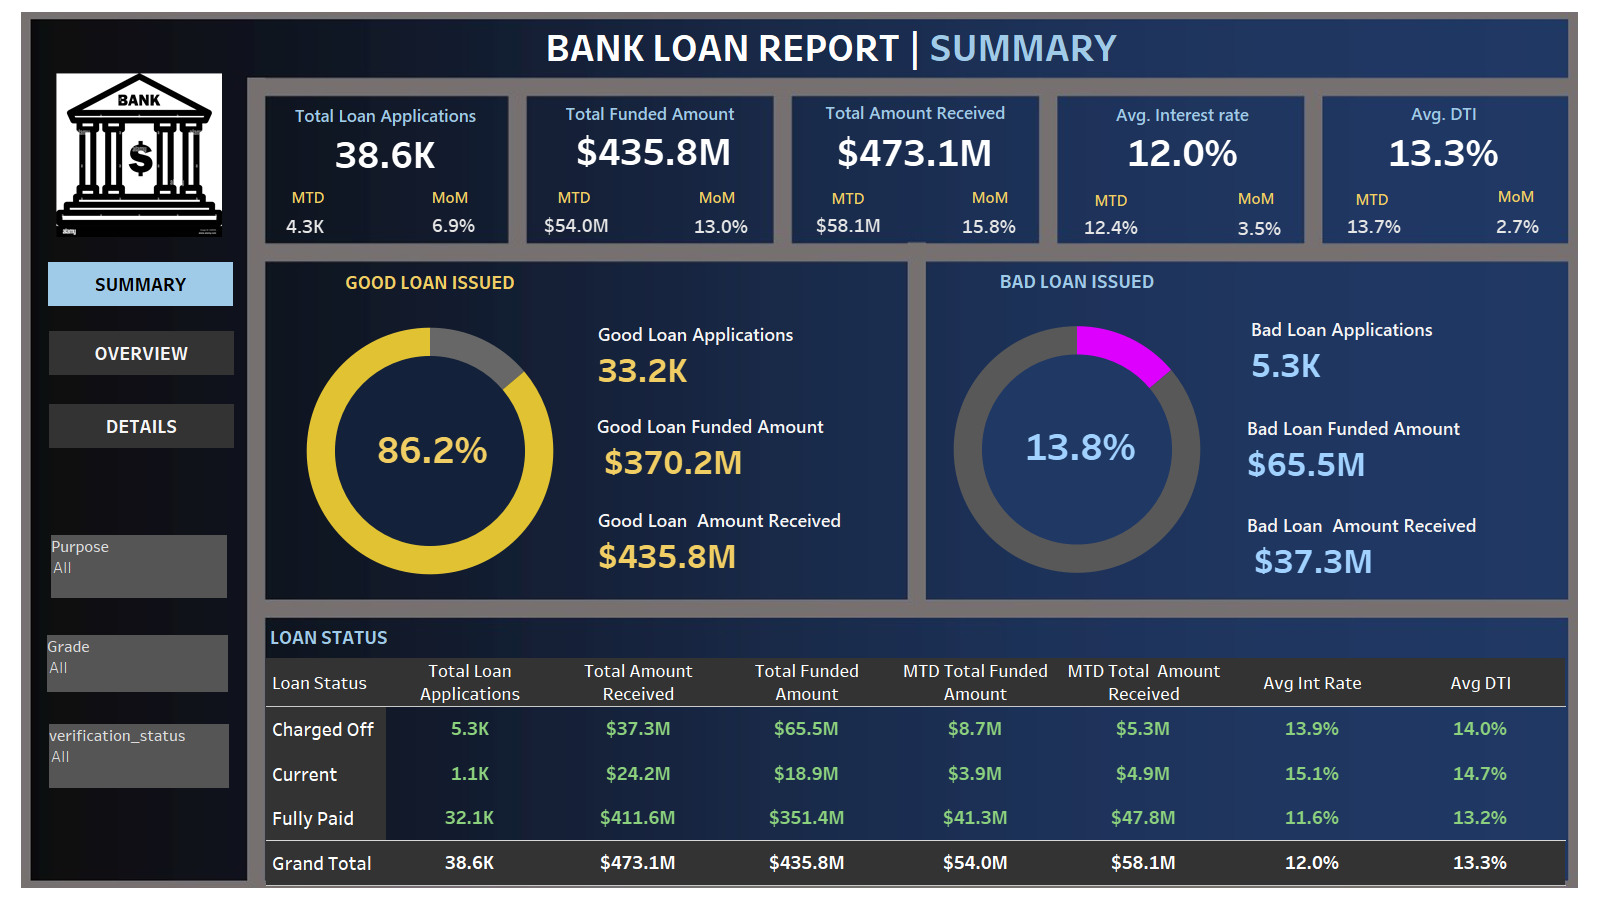

This screenshot's page, from the dashboard's own definition file:
{"tool":"tableau","page":{"name":"summary","canvas":[1600,900],"ordinal":2},"visuals":[{"type":"image","param":"C:/Users/YASH SHARMA/Downloads/Tableau Background 1.jpg","box":[8,8,1584,884]},{"type":"text","box":[542,15,630,61]},{"type":"image","param":"C:/Users/YASH SHARMA/Downloads/bank-icon-2GPEXFJ.jpg","box":[43,73,192,164]},{"type":"worksheet","title":"Total Amount Received","mark":"Automatic","box":[792,95,247,74]},{"type":"worksheet","title":"Total Funded Amount","mark":"Automatic","box":[526,96,248,71]},{"type":"worksheet","title":"Avg. DTI","mark":"Automatic","box":[1319,96,250,72]},{"type":"worksheet","title":"Avg. Interest rate","mark":"Automatic","box":[1058,97,249,71]},{"type":"worksheet","title":"Total Loan Applications","mark":"Automatic","box":[263,98,245,72]},{"type":"text","box":[1466,181,100,30]},{"type":"text","box":[400,182,100,30]},{"type":"text","box":[524,182,100,30]},{"type":"text","box":[667,182,100,30]},{"type":"text","box":[940,182,100,30]},{"type":"text","box":[263,183,90,27]},{"type":"text","box":[798,183,100,30]},{"type":"text","box":[1206,183,100,30]},{"type":"text","box":[1322,184,100,30]},{"type":"text","box":[1061,185,100,30]},{"type":"worksheet","title":"MTD Total Amount Received","mark":"Automatic","box":[802,204,93,42]},{"type":"worksheet","title":"MoM Total Amount Received","mark":"Automatic","box":[944,204,91,45]},{"type":"worksheet","title":"MoM Total Funded Amount","mark":"Automatic","box":[681,207,80,39]},{"type":"worksheet","title":"MTD Total Funded Amount","mark":"Automatic","box":[536,208,81,34]},{"type":"worksheet","title":"MoM Avg Int Rate","mark":"Automatic","box":[1211,208,99,40]},{"type":"worksheet","title":"MoM Avg DTI","mark":"Automatic","box":[1469,208,98,37]},{"type":"worksheet","title":"MTD Total Loan Applications","mark":"Automatic","box":[254,209,102,34]},{"type":"worksheet","title":"MoM Loan Applications","mark":"Automatic","box":[421,209,67,33]},{"type":"worksheet","title":"MTD Avg Int Rate","mark":"Automatic","box":[1066,211,90,32]},{"type":"worksheet","title":"MTD Avg DTI","mark":"Automatic","box":[1332,211,85,30]},{"type":"dashboard-object","box":[48,262,185,44]},{"type":"worksheet","title":"Bad Loan Issued ","mark":"Pie","rows":["Calculation_1767944382273060886","Calculation_1767944382273060886"],"box":[927,262,300,335]},{"type":"worksheet","title":"Good Loan Issued","mark":"Pie","rows":["Calculation_1767944382273060886","Calculation_1767944382273060886"],"box":[268,263,324,336]},{"type":"worksheet","title":"Bad Loan Applications","mark":"Automatic","box":[1243,307,300,75]},{"type":"worksheet","title":"Good Loan Applications","mark":"Automatic","box":[590,312,300,75]},{"type":"dashboard-object","box":[49,331,185,44]},{"type":"worksheet","title":"Bad Loan Application% ","mark":"Automatic","box":[969,371,224,148]},{"type":"dashboard-object","box":[49,404,185,44]},{"type":"worksheet","title":"Good Loan Funded Amount ","mark":"Automatic","box":[589,404,300,75]},{"type":"worksheet","title":"Bad Loan Funded Amount","mark":"Automatic","box":[1239,406,300,75]},{"type":"worksheet","title":"Good Loan Application%","mark":"Automatic","box":[356,410,153,76]},{"type":"worksheet","title":"Good Loan  Amount Received","mark":"Automatic","box":[590,498,300,75]},{"type":"worksheet","title":"Bad Loan  Amount Received","mark":"Automatic","box":[1239,503,300,75]},{"type":"filter","title":"Good Loan Issued","param":"[federated.17grwf20vej4w11bvqv6a1g31w7y].[none:purpose:nk]","box":[51,535,176,63]},{"type":"worksheet","title":"LOAN STATUS","mark":"Automatic","rows":["loan_status"],"box":[266,618,1300,268]},{"type":"filter","title":"Good Loan Issued","param":"[federated.17grwf20vej4w11bvqv6a1g31w7y].[none:grade:nk]","box":[47,635,181,57]},{"type":"filter","title":"Good Loan Issued","param":"[federated.17grwf20vej4w11bvqv6a1g31w7y].[none:verification_status:nk]","box":[49,724,180,64]}]}

Visuals, with their boxes in screenshot pixels (x1, y1, x2, y2), scaled from the page's 1600x900 canvas onto the 1600x900 screenshot:
image: [x1=8, y1=8, x2=1592, y2=892]
text: [x1=542, y1=15, x2=1172, y2=76]
image: [x1=43, y1=73, x2=235, y2=237]
"Total Amount Received" worksheet: [x1=792, y1=95, x2=1039, y2=169]
"Total Funded Amount" worksheet: [x1=526, y1=96, x2=774, y2=167]
"Avg. DTI" worksheet: [x1=1319, y1=96, x2=1569, y2=168]
"Avg. Interest rate" worksheet: [x1=1058, y1=97, x2=1307, y2=168]
"Total Loan Applications" worksheet: [x1=263, y1=98, x2=508, y2=170]
text: [x1=1466, y1=181, x2=1566, y2=211]
text: [x1=400, y1=182, x2=500, y2=212]
text: [x1=524, y1=182, x2=624, y2=212]
text: [x1=667, y1=182, x2=767, y2=212]
text: [x1=940, y1=182, x2=1040, y2=212]
text: [x1=263, y1=183, x2=353, y2=210]
text: [x1=798, y1=183, x2=898, y2=213]
text: [x1=1206, y1=183, x2=1306, y2=213]
text: [x1=1322, y1=184, x2=1422, y2=214]
text: [x1=1061, y1=185, x2=1161, y2=215]
"MTD Total Amount Received" worksheet: [x1=802, y1=204, x2=895, y2=246]
"MoM Total Amount Received" worksheet: [x1=944, y1=204, x2=1035, y2=249]
"MoM Total Funded Amount" worksheet: [x1=681, y1=207, x2=761, y2=246]
"MTD Total Funded Amount" worksheet: [x1=536, y1=208, x2=617, y2=242]
"MoM Avg Int Rate" worksheet: [x1=1211, y1=208, x2=1310, y2=248]
"MoM Avg DTI" worksheet: [x1=1469, y1=208, x2=1567, y2=245]
"MTD Total Loan Applications" worksheet: [x1=254, y1=209, x2=356, y2=243]
"MoM Loan Applications" worksheet: [x1=421, y1=209, x2=488, y2=242]
"MTD Avg Int Rate" worksheet: [x1=1066, y1=211, x2=1156, y2=243]
"MTD Avg DTI" worksheet: [x1=1332, y1=211, x2=1417, y2=241]
dashboard-object: [x1=48, y1=262, x2=233, y2=306]
"Bad Loan Issued " worksheet (Pie marks): [x1=927, y1=262, x2=1227, y2=597]
"Good Loan Issued" worksheet (Pie marks): [x1=268, y1=263, x2=592, y2=599]
"Bad Loan Applications" worksheet: [x1=1243, y1=307, x2=1543, y2=382]
"Good Loan Applications" worksheet: [x1=590, y1=312, x2=890, y2=387]
dashboard-object: [x1=49, y1=331, x2=234, y2=375]
"Bad Loan Application% " worksheet: [x1=969, y1=371, x2=1193, y2=519]
dashboard-object: [x1=49, y1=404, x2=234, y2=448]
"Good Loan Funded Amount " worksheet: [x1=589, y1=404, x2=889, y2=479]
"Bad Loan Funded Amount" worksheet: [x1=1239, y1=406, x2=1539, y2=481]
"Good Loan Application%" worksheet: [x1=356, y1=410, x2=509, y2=486]
"Good Loan  Amount Received" worksheet: [x1=590, y1=498, x2=890, y2=573]
"Bad Loan  Amount Received" worksheet: [x1=1239, y1=503, x2=1539, y2=578]
"Good Loan Issued" filter: [x1=51, y1=535, x2=227, y2=598]
"LOAN STATUS" worksheet: [x1=266, y1=618, x2=1566, y2=886]
"Good Loan Issued" filter: [x1=47, y1=635, x2=228, y2=692]
"Good Loan Issued" filter: [x1=49, y1=724, x2=229, y2=788]
